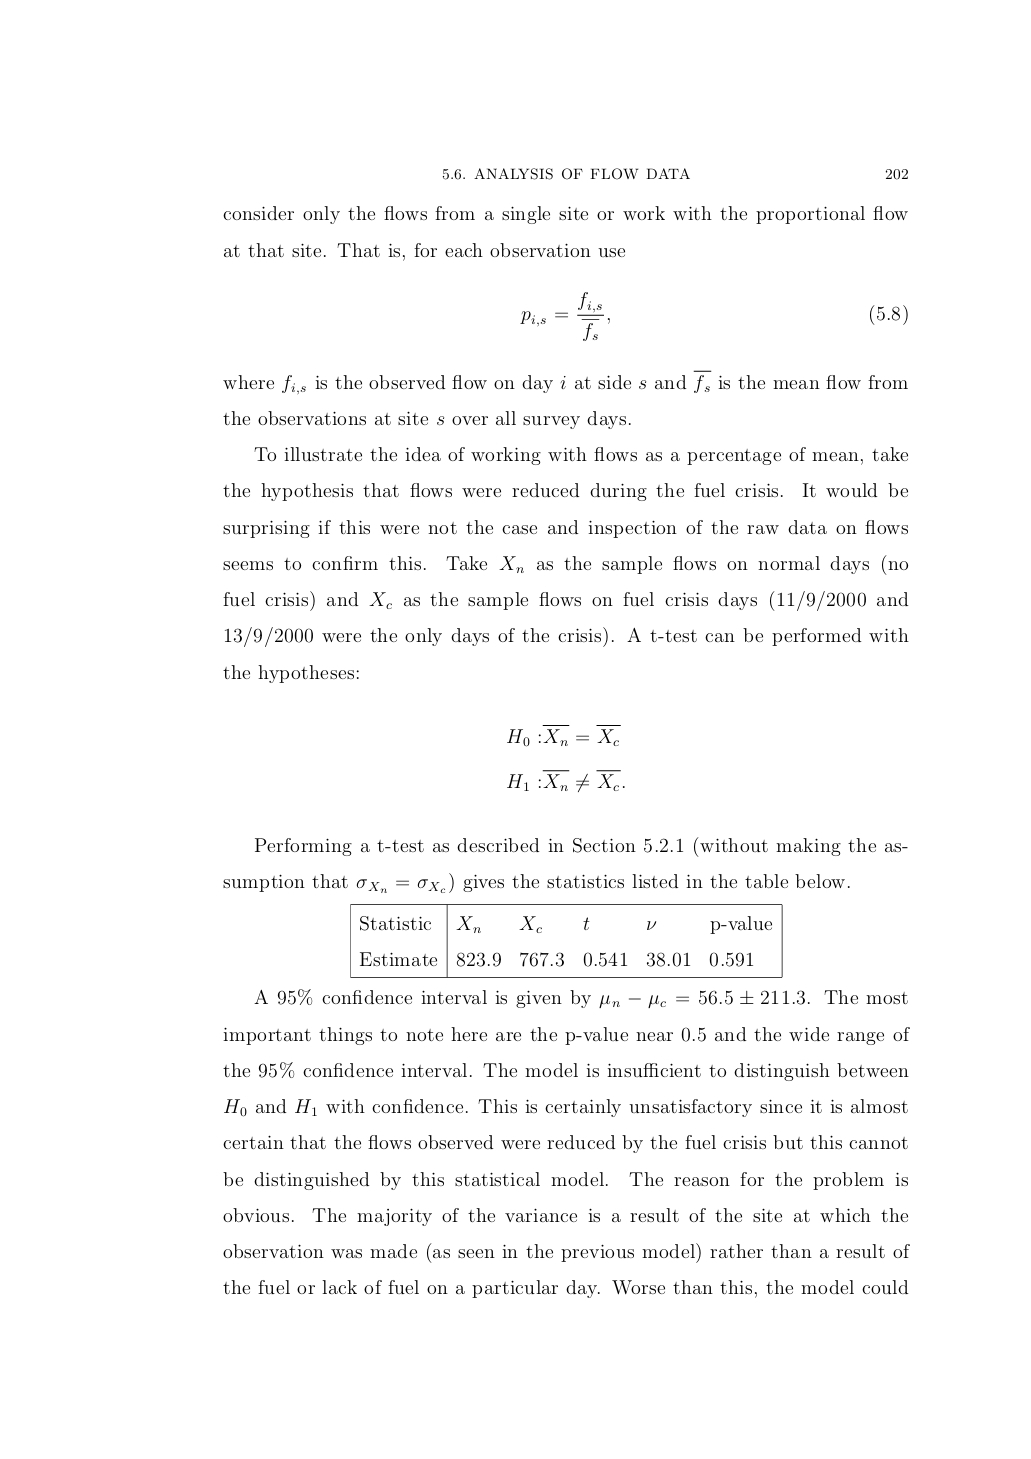Table: (350, 902, 782, 978)
formula: (520, 291, 907, 341), (507, 769, 624, 793), (507, 725, 620, 746)
